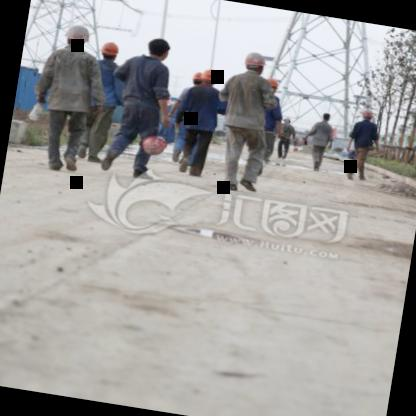helmet: (62, 21, 93, 50), (240, 48, 269, 77), (96, 37, 122, 64), (199, 64, 221, 87), (263, 74, 283, 98), (358, 106, 376, 121)
